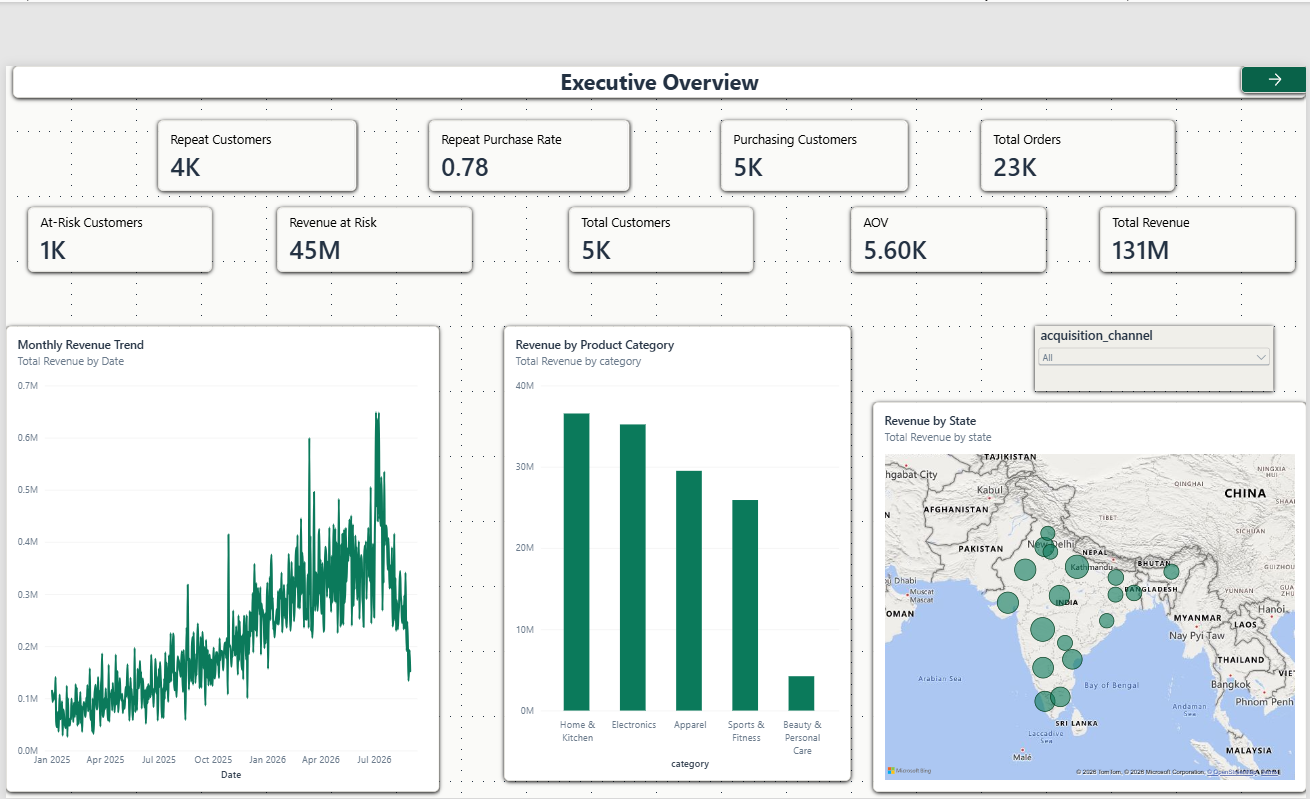

What the dashboard file says about the page in this screenshot:
{"tool":"powerbi","page":{"name":"executive overview","canvas":[1920,1080],"ordinal":0},"visuals":[{"type":"textbox","box":[10.3,0,1909.7,47.3],"z":0},{"type":"cardVisual","fields":{"Data":["Calendar.Repeat Customers"]},"box":[224,80,292.6,105.1],"z":1000},{"type":"cardVisual","fields":{"Data":["Calendar.At_Risk_customer_count"]},"box":[32,208,272,96],"z":2000},{"type":"cardVisual","fields":{"Data":["Calendar.Purchasing Customers"]},"box":[1056,80,275.8,105.1],"z":3000},{"type":"cardVisual","fields":{"Data":["Calendar.Repeat Purchase Rate"]},"box":[624,80,295.6,105.1],"z":4000},{"type":"cardVisual","fields":{"Data":["Calendar.Revenue at Risk"]},"box":[400,208,288,96],"z":5000},{"type":"cardVisual","fields":{"Data":["Calendar.Total Customers"]},"box":[832,208,272,96],"z":6000},{"type":"cardVisual","fields":{"Data":["Calendar.AOV"]},"box":[1248,208,288,96],"z":7000},{"type":"cardVisual","fields":{"Data":["_Measure.Total Orders"]},"box":[1440,80,286.5,105.1],"z":8000},{"type":"cardVisual","fields":{"Data":["_Measure.Total Revenue"]},"box":[1616,208,288,96],"z":9000},{"type":"lineChart","title":"Monthly Revenue Trend","fields":{"Category":["Calendar.Date"],"Y":["_Measure.Total Revenue"]},"box":[0,384,640,688],"z":10000},{"type":"clusteredColumnChart","title":"Revenue by Product Category","fields":{"Category":["products_clean.category"],"Y":["_Measure.Total Revenue"]},"box":[736,384,512,672],"z":11000},{"type":"map","title":"Revenue by State","fields":{"Category":["customer_360_final.state"],"Size":["_Measure.Total Revenue"]},"box":[1280,496,640,576],"z":12000},{"type":"slicer","fields":{"Values":["customer_360_final.acquisition_channel"]},"box":[1520,384,352,96],"z":13000},{"type":"actionButton","box":[1824,0,100,40],"z":13001}]}

Visuals, with their boxes on the page's 1920x1080 design canvas (x1, y1, x2, y2). These are canvas units, not pixel positions in the 1310x799 screenshot, which may show the page scaled, cropped or inside an application window:
textbox: [10, 0, 1920, 47]
cardVisual - Calendar.Repeat Customers: [224, 80, 517, 185]
cardVisual - Calendar.At_Risk_customer_count: [32, 208, 304, 304]
cardVisual - Calendar.Purchasing Customers: [1056, 80, 1332, 185]
cardVisual - Calendar.Repeat Purchase Rate: [624, 80, 920, 185]
cardVisual - Calendar.Revenue at Risk: [400, 208, 688, 304]
cardVisual - Calendar.Total Customers: [832, 208, 1104, 304]
cardVisual - Calendar.AOV: [1248, 208, 1536, 304]
cardVisual - _Measure.Total Orders: [1440, 80, 1726, 185]
cardVisual - _Measure.Total Revenue: [1616, 208, 1904, 304]
"Monthly Revenue Trend" lineChart: [0, 384, 640, 1072]
"Revenue by Product Category" clusteredColumnChart: [736, 384, 1248, 1056]
"Revenue by State" map: [1280, 496, 1920, 1072]
slicer - customer_360_final.acquisition_channel: [1520, 384, 1872, 480]
actionButton: [1824, 0, 1924, 40]
